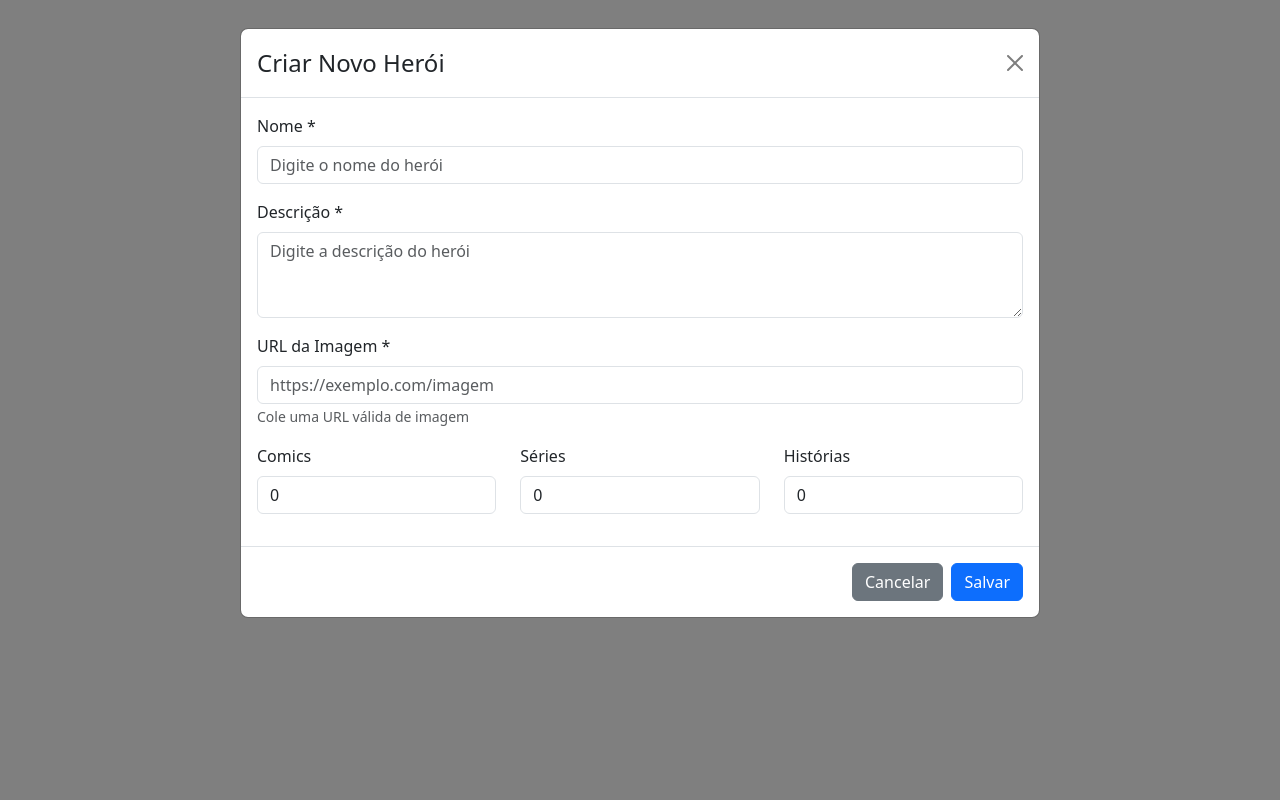
Scenario: HeroForm › Form Validation › should show validation errors for empty required fields
Click the button "Salvar".
click(987, 582)  # box top-left (951, 563), bottom-right (1023, 601)
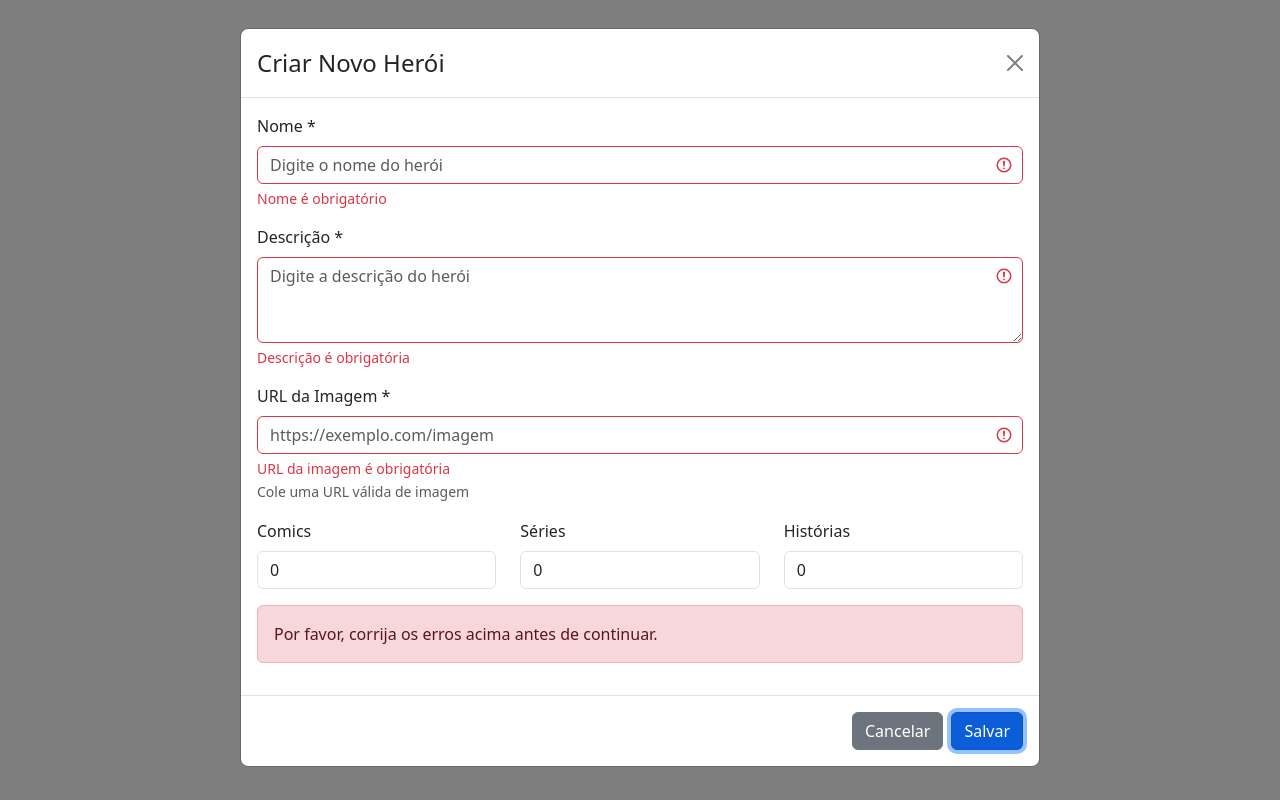
Expected: the text "Nome é obrigatório" is shown, top-left (257, 189), bottom-right (387, 208)
Expected: the text "Descrição é obrigatória" is shown, top-left (257, 348), bottom-right (410, 367)
Expected: the text "URL da imagem é obrigatória" is shown, top-left (257, 459), bottom-right (450, 478)
